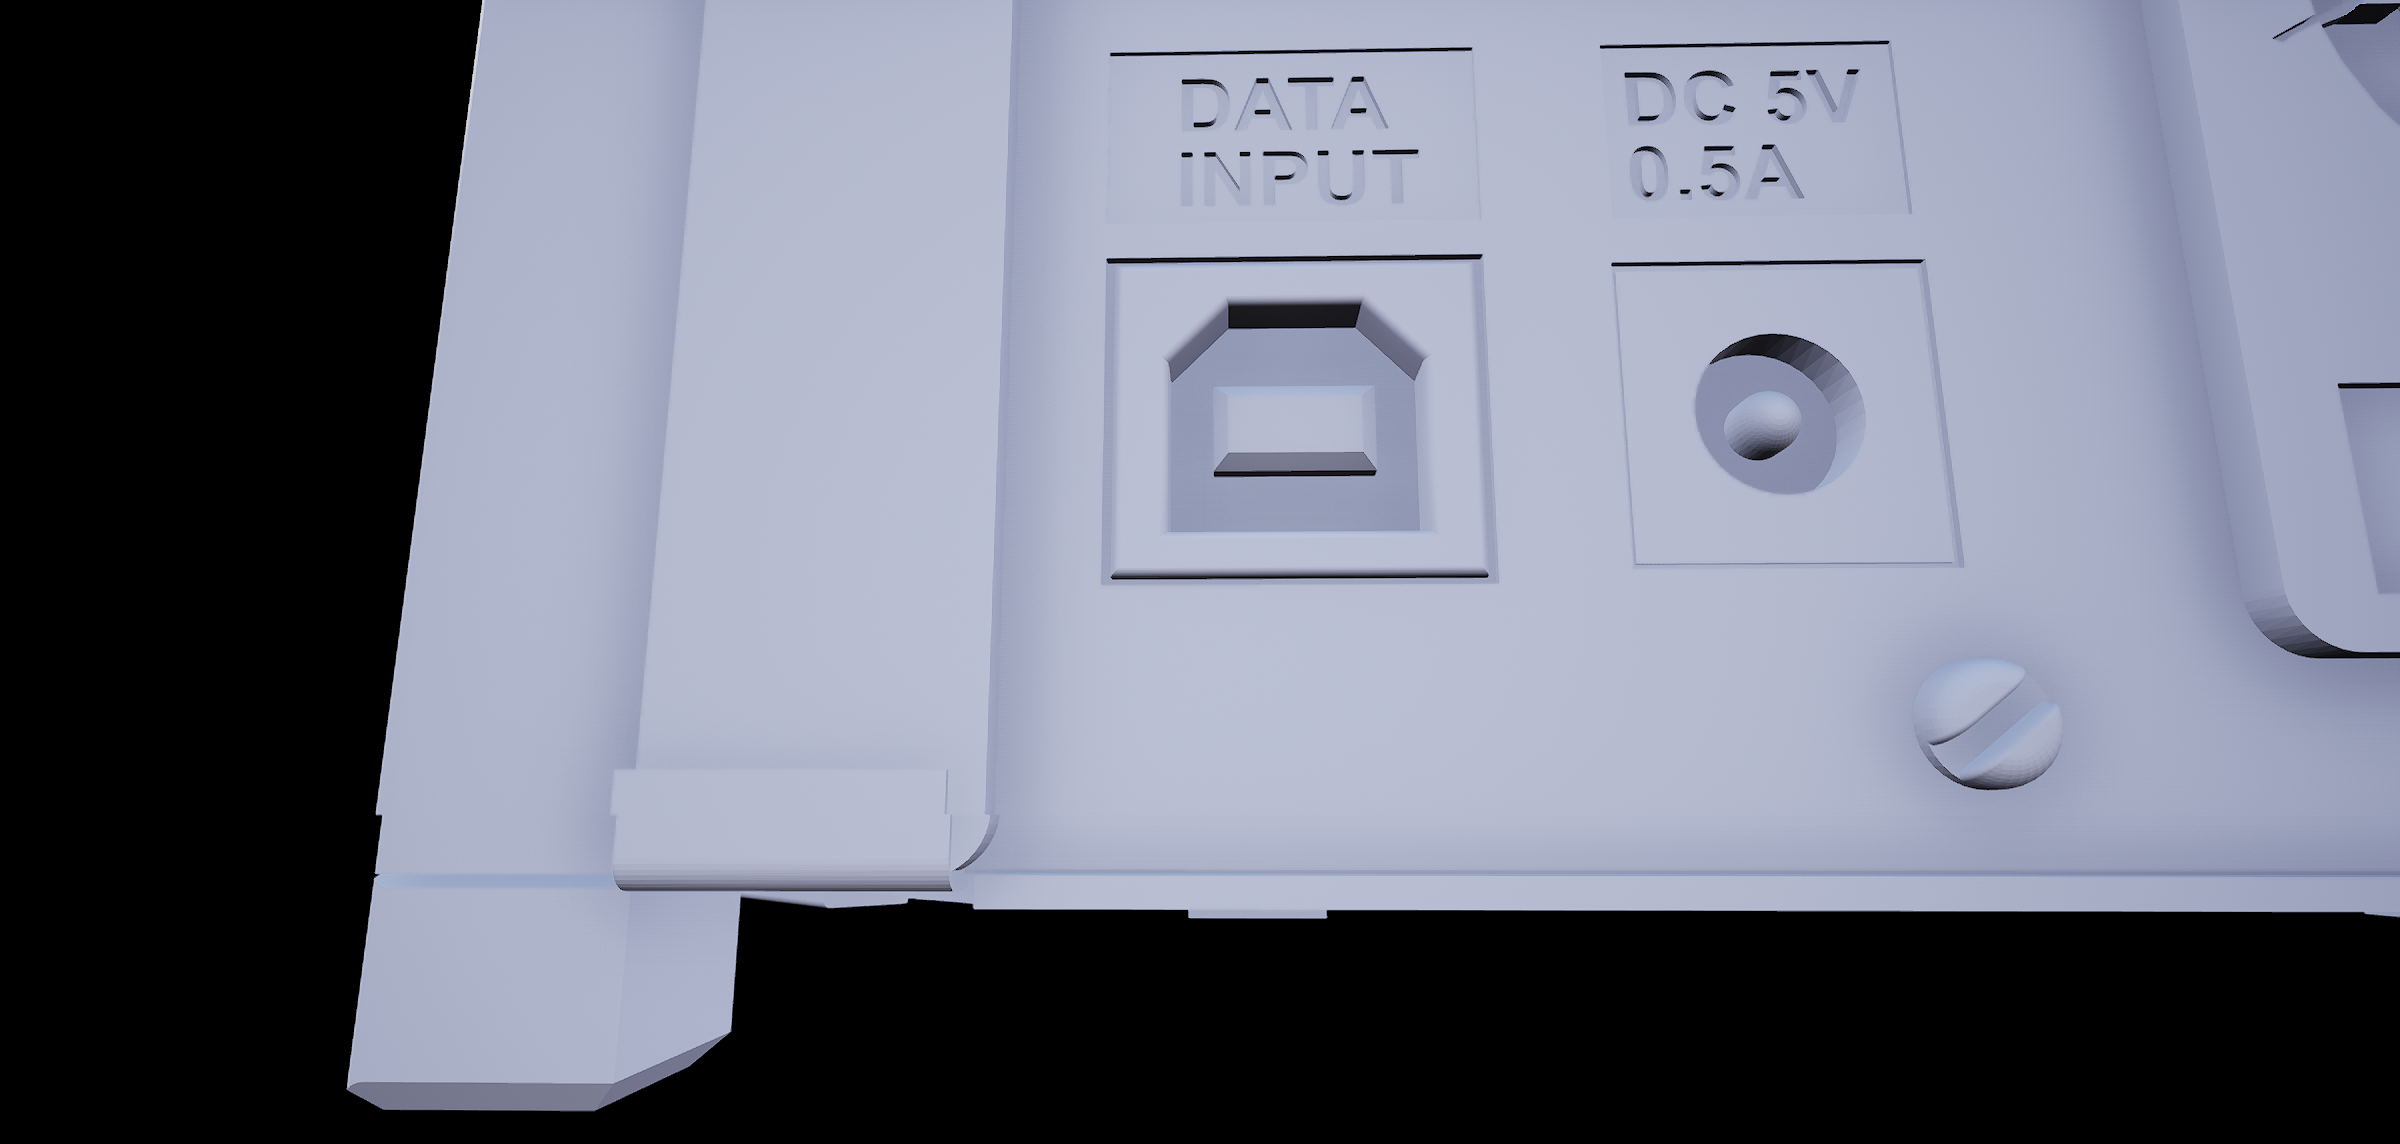dc: (1668, 315, 1886, 522)
usb: (1159, 279, 1449, 554)
